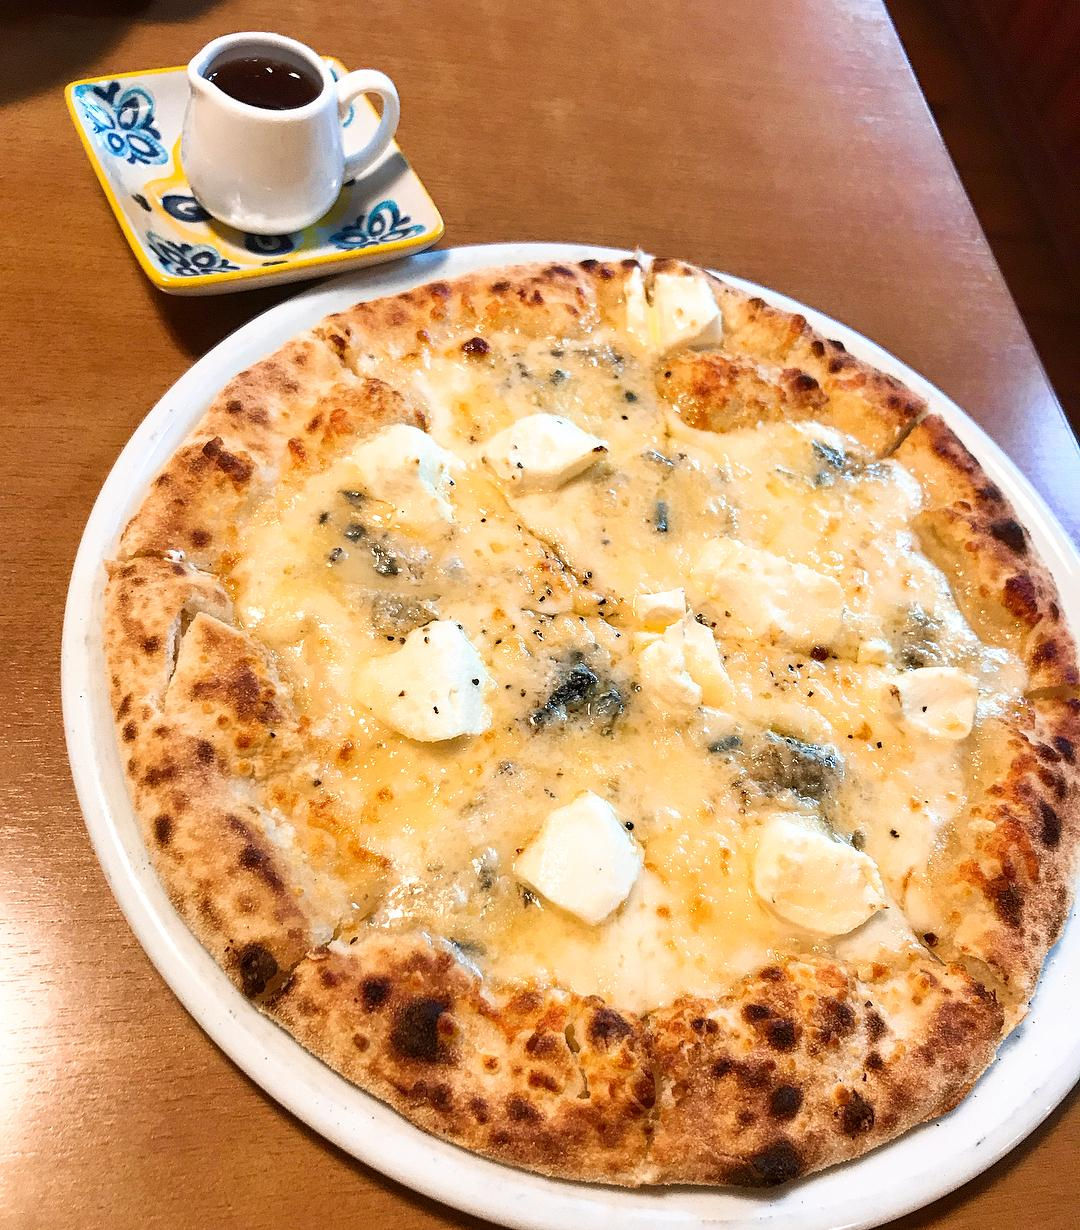Cheese: (750, 796, 897, 942), (510, 788, 658, 931), (703, 528, 847, 656), (363, 609, 495, 747), (343, 415, 460, 543), (628, 585, 733, 706), (483, 402, 613, 499), (623, 263, 736, 356), (888, 658, 985, 751)
Pizza: (83, 241, 1080, 1201)
